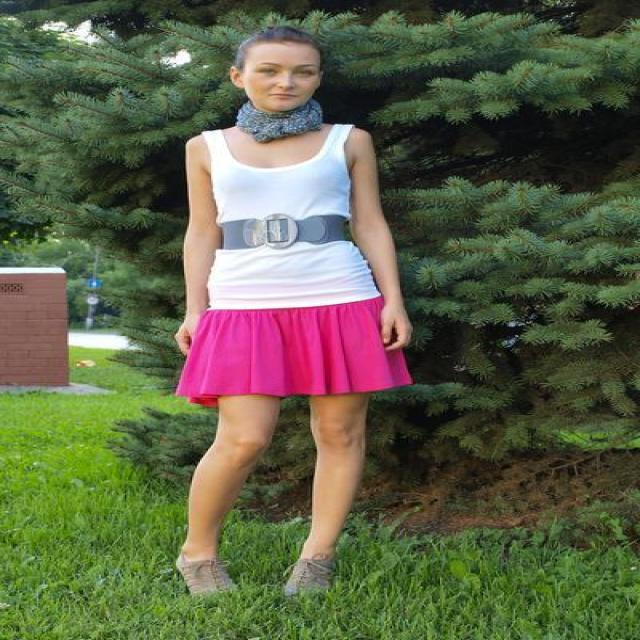shirt: (189, 125, 381, 308)
shoe: (182, 555, 328, 596)
skirt: (176, 294, 411, 406)
